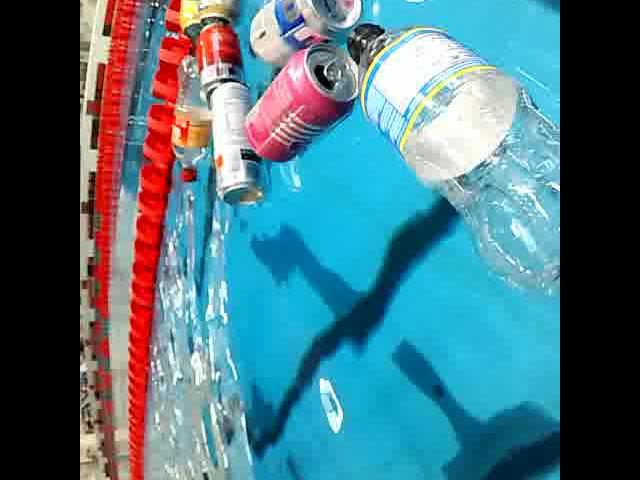Bottle: (342, 15, 560, 314), (168, 52, 218, 190)
Can: (240, 36, 366, 164), (208, 77, 268, 211), (246, 0, 370, 64), (192, 14, 246, 108), (197, 0, 251, 30), (177, 0, 211, 47)
